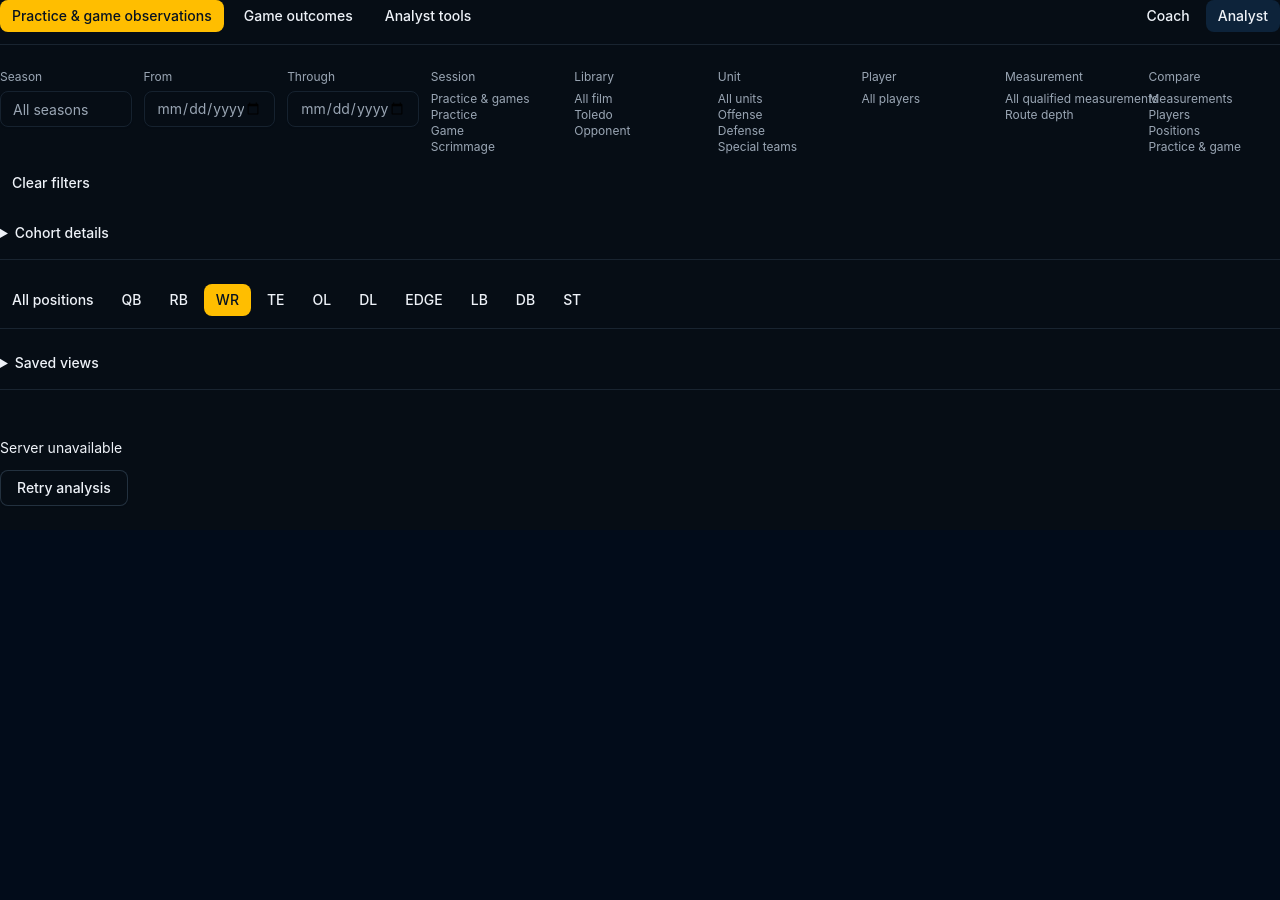
Scenario: query errors provide a working retry instead of placeholder charts
Click the button "Retry analysis".
click(64, 488)  # box [0, 470, 128, 506]
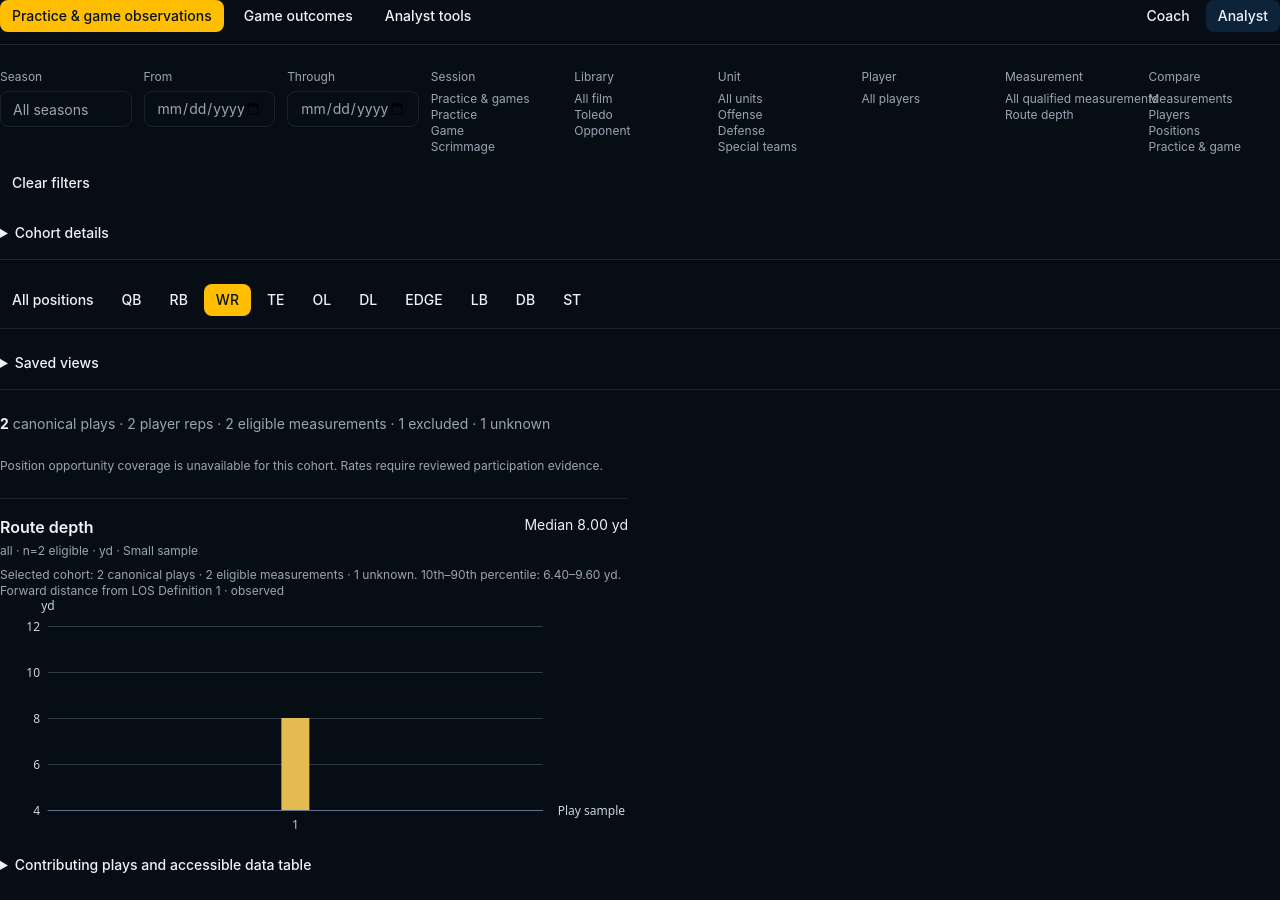
Expected: the heading "Route depth" is shown, [0, 517, 94, 537]
